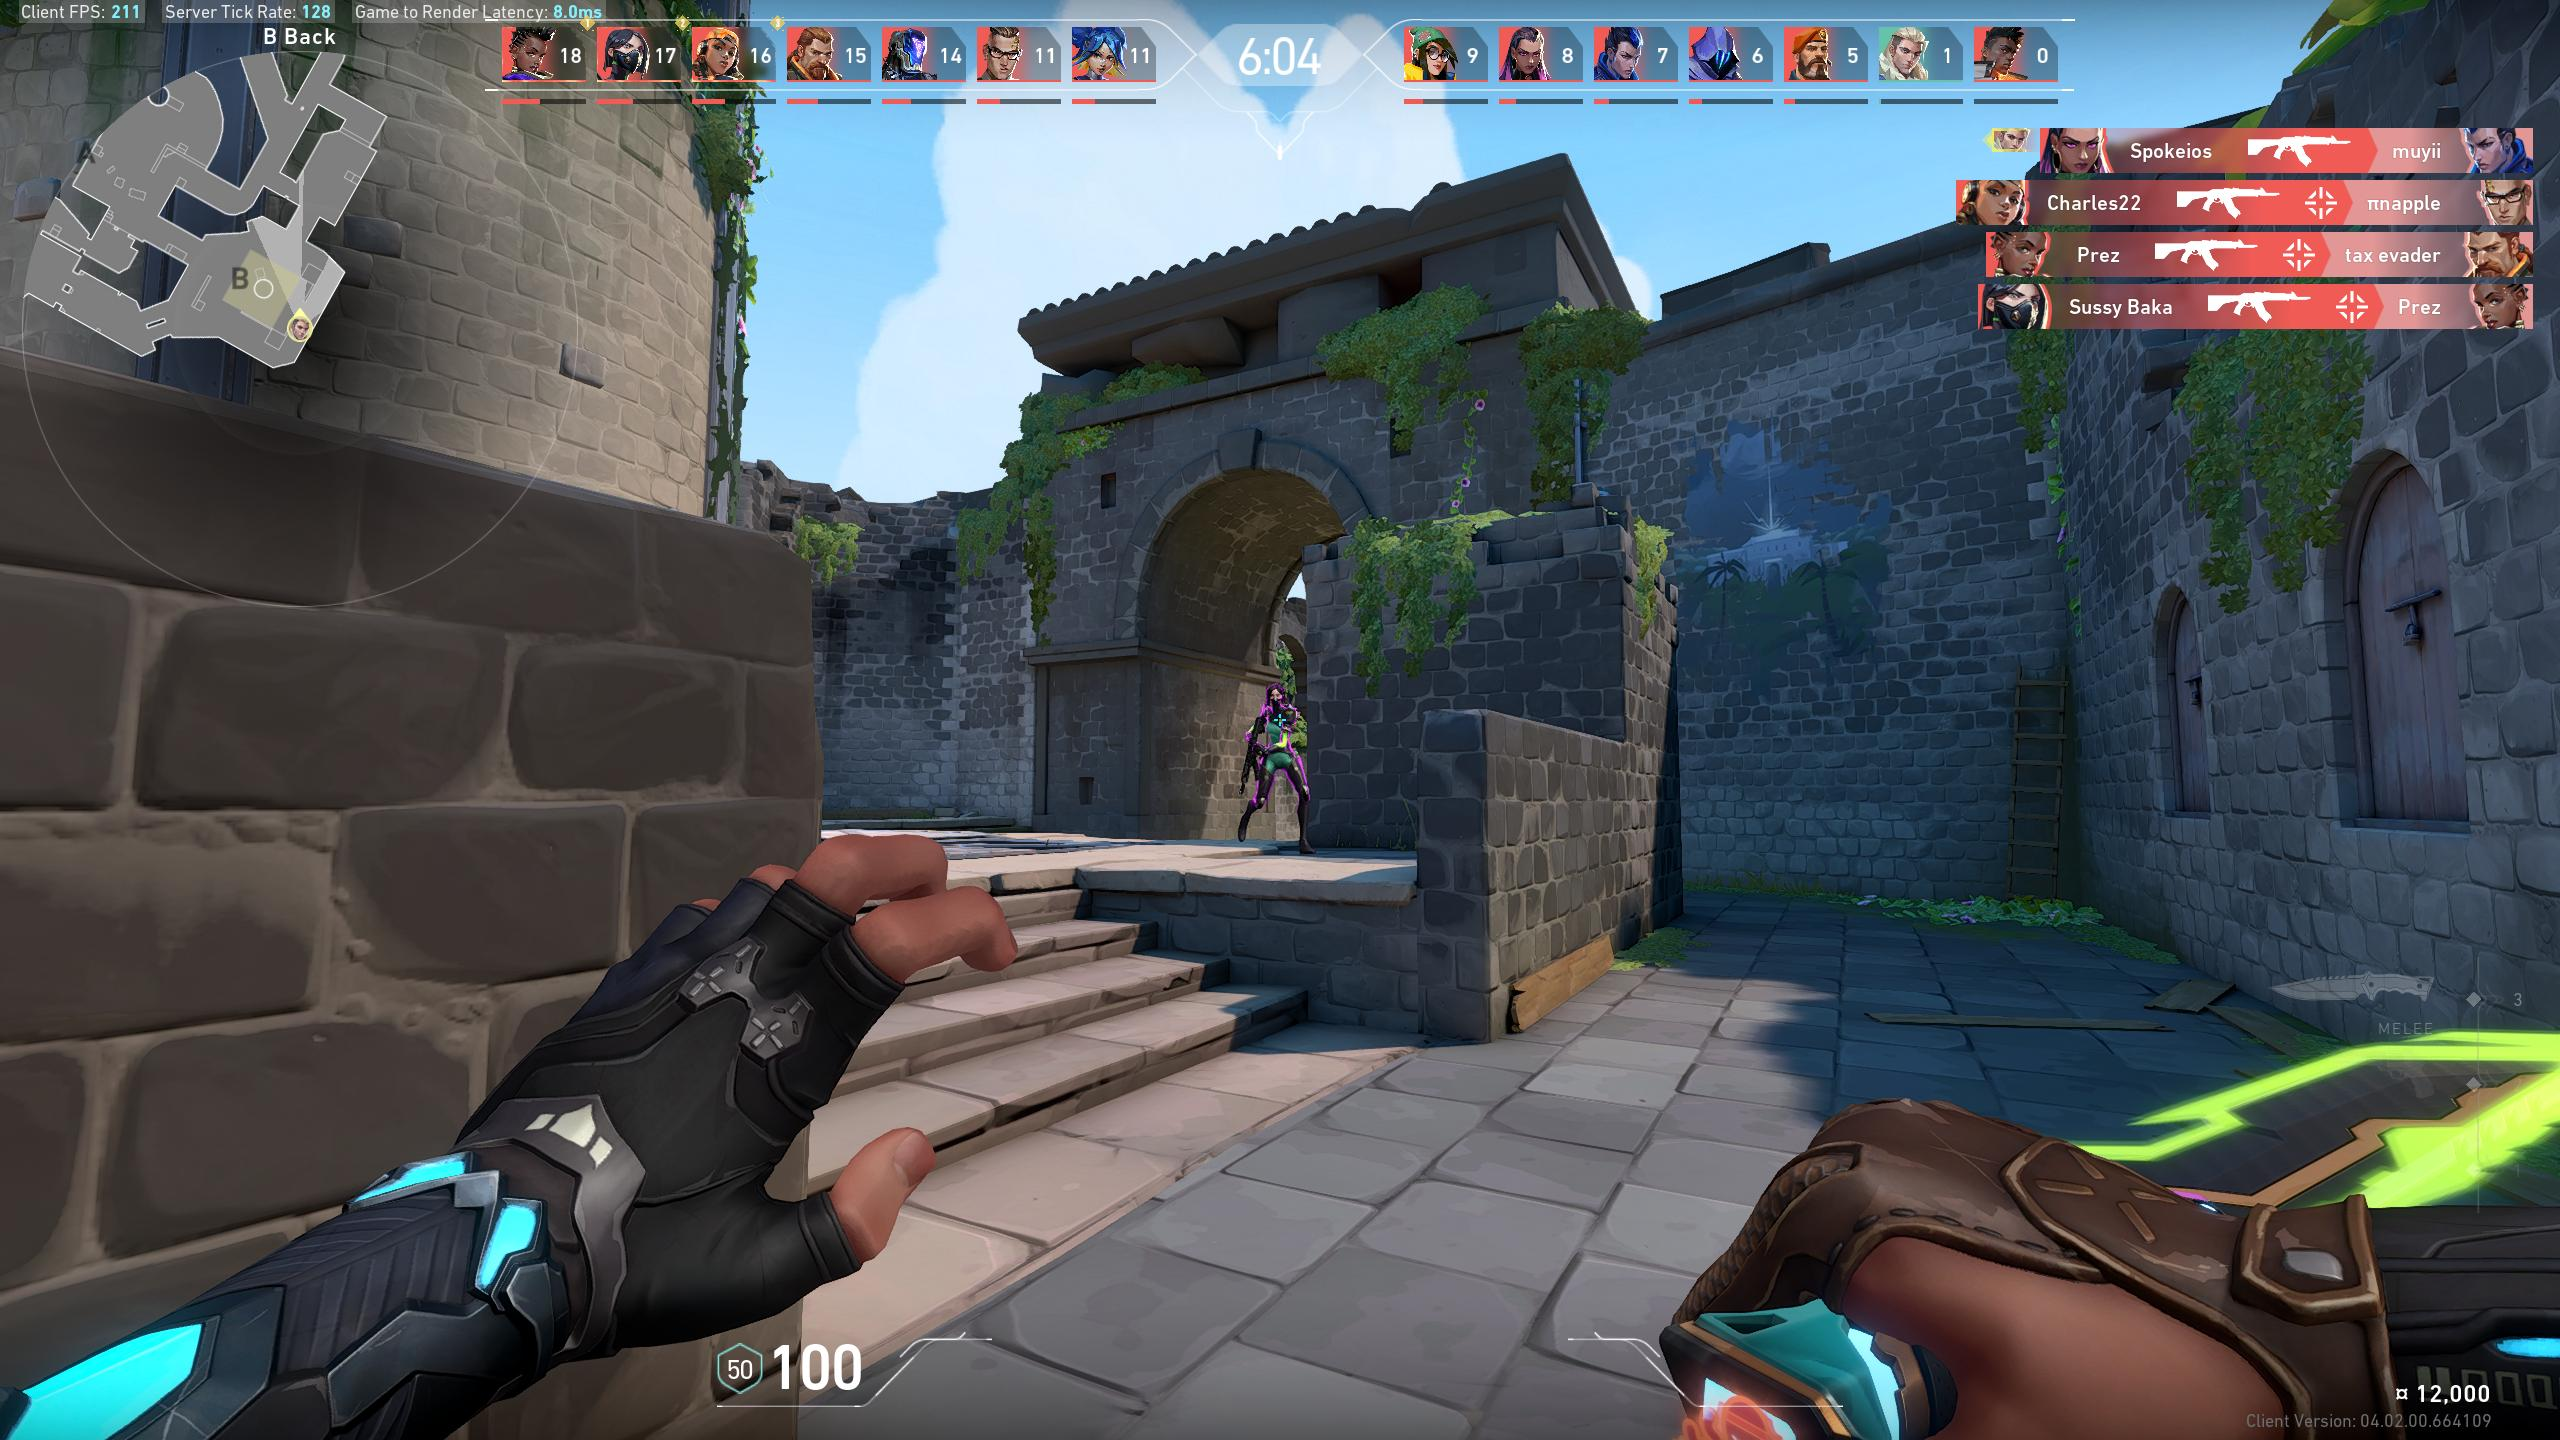enemyBody: (1271, 710, 1285, 751)
enemyHead: (1269, 689, 1282, 703)
